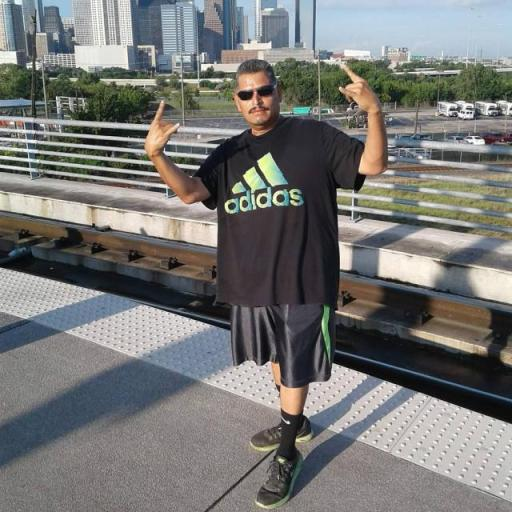Adidas: (222, 148, 304, 214)
